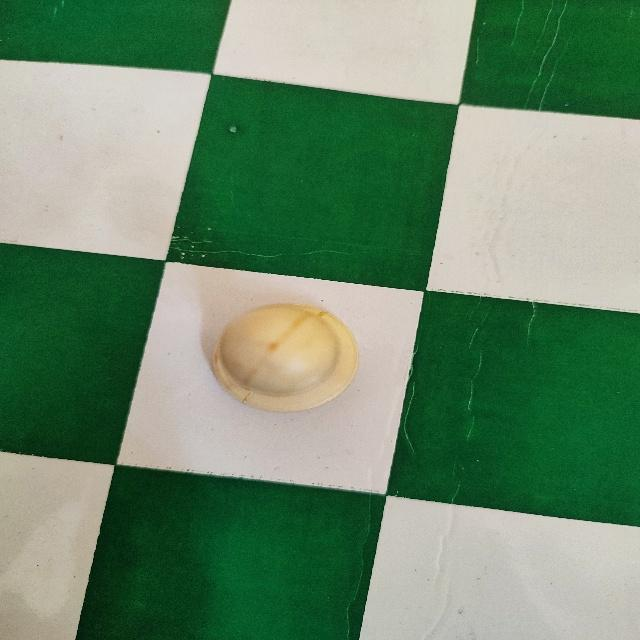Pawn: (209, 300, 362, 415)
